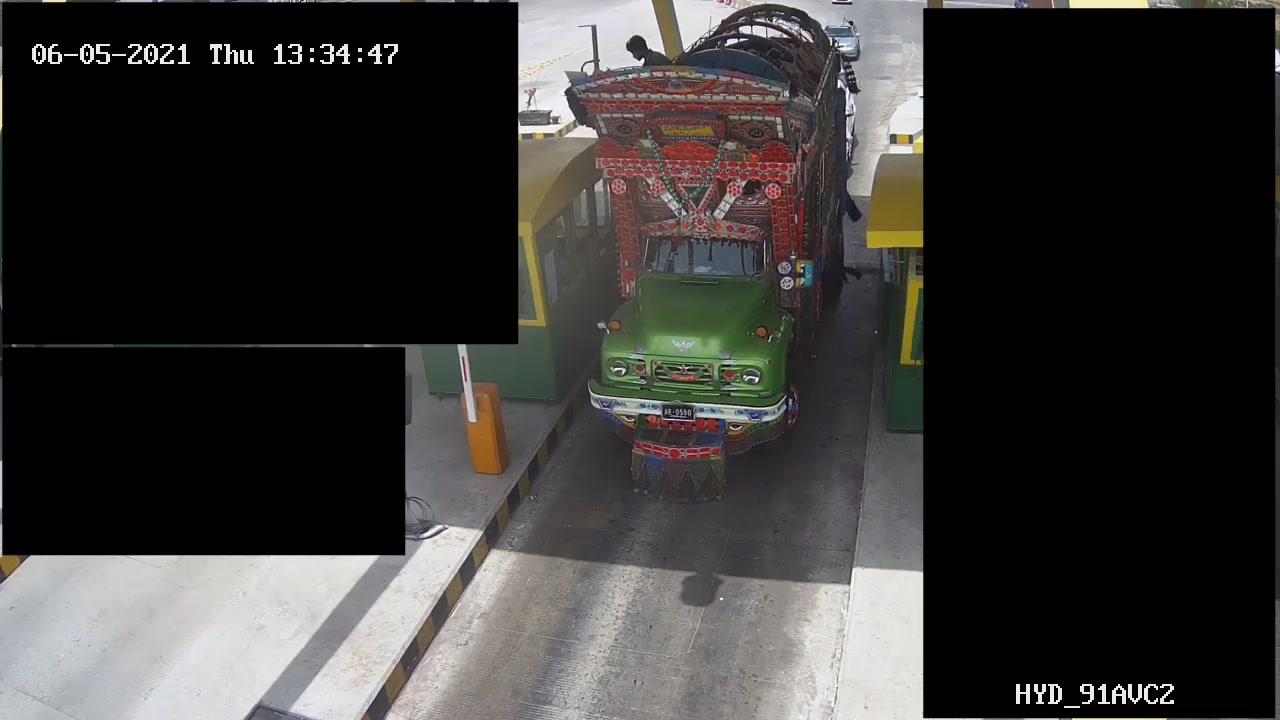F5: (578, 5, 848, 472)
